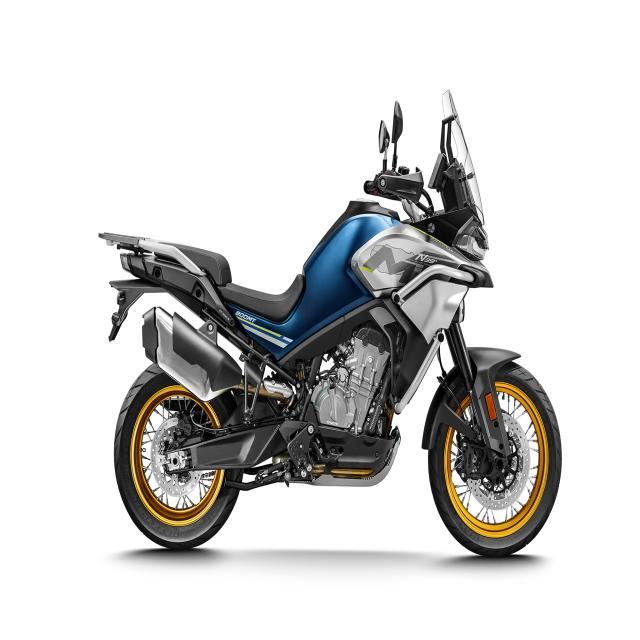Motorcycle: (98, 90, 562, 556)
